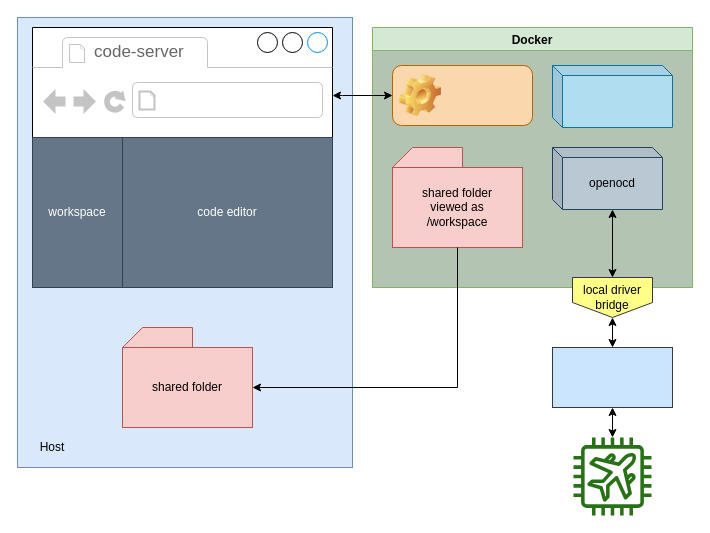
This 710x533 diagram has some shape labels left out. The shapes that lost their labels are listed below. From the top down, each one's centre as x and y in pixels, then its label:
At [287,100]: "localhost:8080".
At [462,95]: "vscode server".
At [612,96]: "gcc compiler".
At [612,377]: "programmer jtag/swd".
